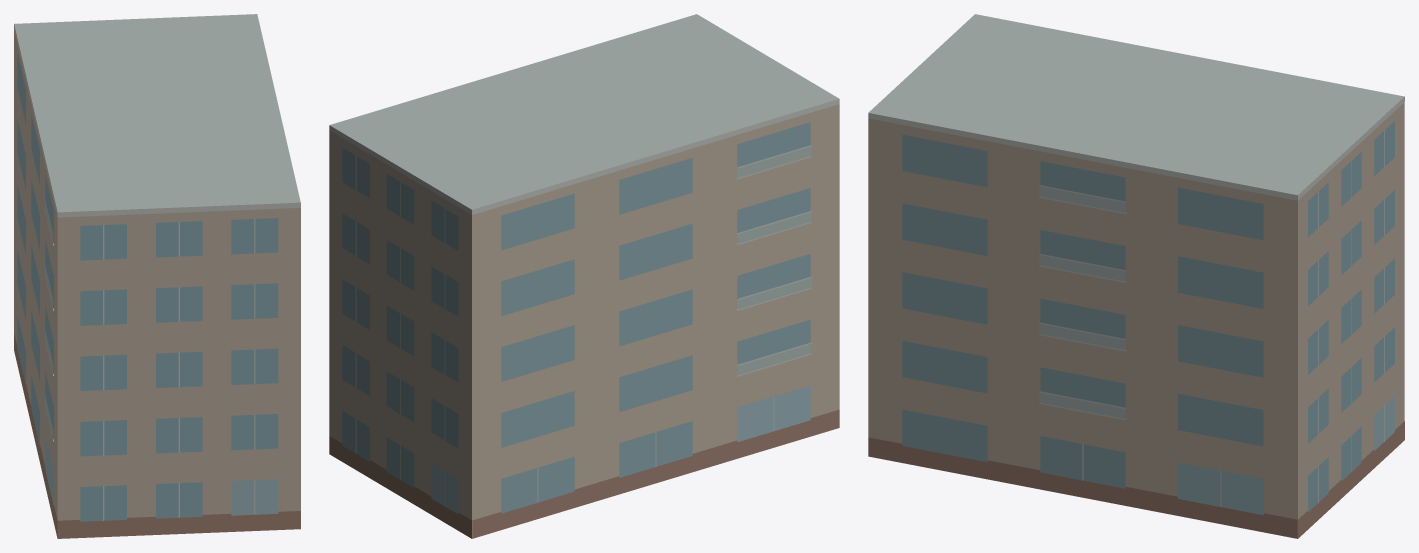
The model's file is survey-upis-32656827.glb.
The picture shows the model from 3 angles, left to right: view 1: azimuth 30°, elevation 25°; view 2: azimuth 150°, elevation 25°; view 3: azimuth 270°, elevation 25°; orthographic projection. The views are drawn at different scales.
Visible parts, largest first — view 1: survey-upis-32656827.tmp; view 2: survey-upis-32656827.tmp; view 3: survey-upis-32656827.tmp.
Part boxes in pixels (left/top/right/bottom): survey-upis-32656827.tmp: left=14, top=14, right=300, bottom=538; survey-upis-32656827.tmp: left=329, top=14, right=839, bottom=538; survey-upis-32656827.tmp: left=868, top=14, right=1404, bottom=538.
Bounding box in the file's own units: 17.32 × 15.3 × 21.66.
